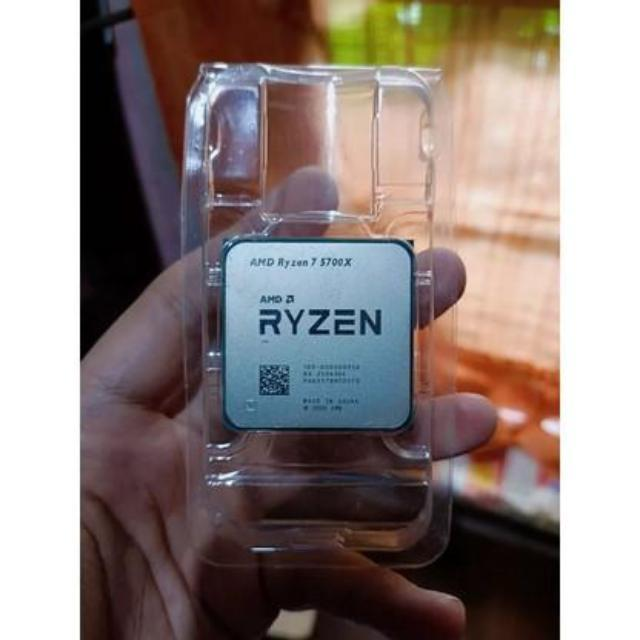CPU: (226, 239, 414, 430)
